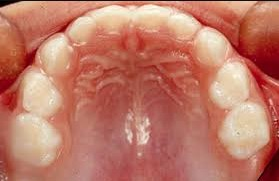UL1BC_healthy: (212, 64, 250, 104)
UL2BC_healthy: (223, 106, 268, 153)
ULCI_healthy: (135, 5, 169, 31)
ULC_healthy: (194, 28, 227, 67)
ULLI_healthy: (170, 13, 197, 38)
UR1BC_healthy: (25, 75, 62, 116)
UR2BC_healthy: (14, 115, 57, 164)
URCI_healthy: (98, 6, 131, 32)
URC_healthy: (40, 38, 77, 72)
URLI_healthy: (69, 16, 96, 42)
